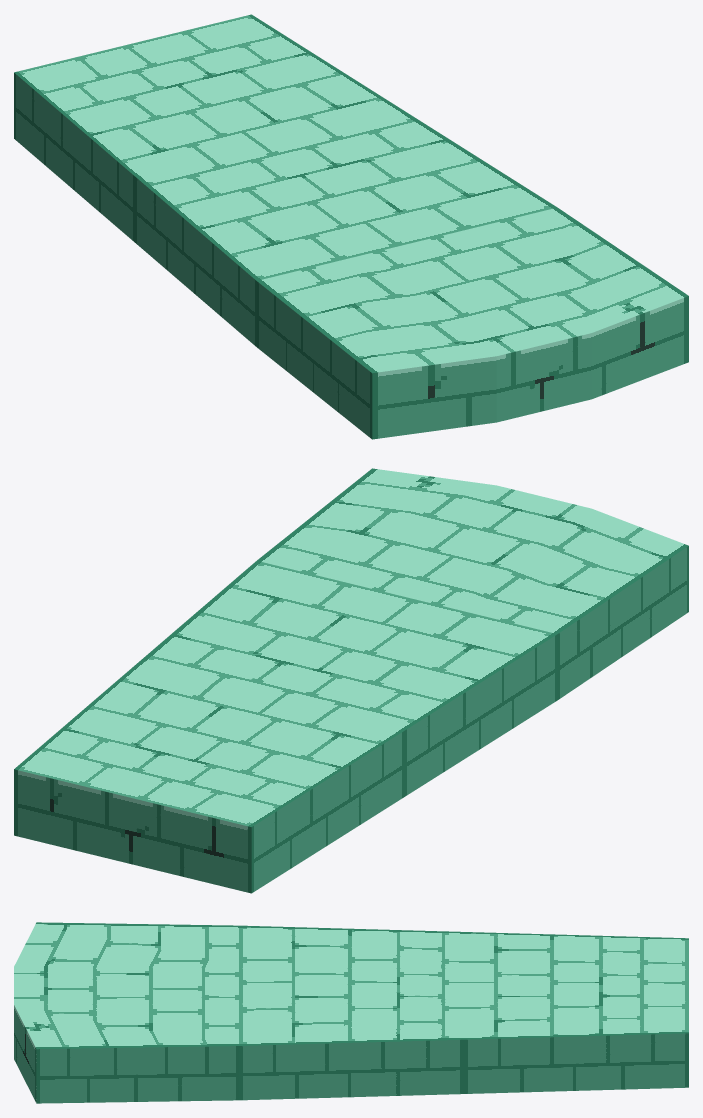
Rendered from spookyjam_platform_wide.gltf.
The picture shows the model from 3 angles, top to bottom: view 1: azimuth 30°, elevation 25°; view 2: azimuth 150°, elevation 25°; view 3: azimuth 270°, elevation 25°; orthographic projection. The views are drawn at different scales.
Visible parts, largest first — view 1: pillarbottomWIDE; view 2: pillarbottomWIDE; view 3: pillarbottomWIDE.
Part boxes in pixels (<box>): pillarbottomWIDE: <box>14,14,688,439</box>; pillarbottomWIDE: <box>14,468,688,893</box>; pillarbottomWIDE: <box>14,922,688,1103</box>.
Bounding box in the file's own units: 2.5 × 0.5 × 5.62.
1 material, 1 textured.
